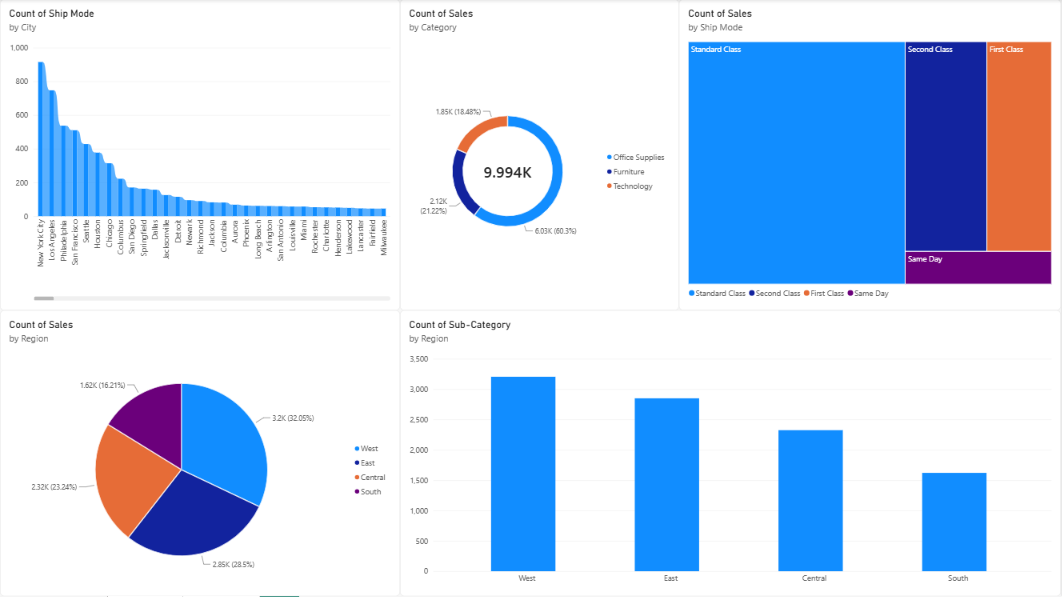

What the dashboard file says about the page in this screenshot:
{"tool":"powerbi","page":{"name":"Page 1","canvas":[1920,1080],"ordinal":0},"visuals":[{"type":"pieChart","fields":{"Category":["Bars- Segment_Full Data_data.Region"],"Y":["CountNonNull(Bars- Segment_Full Data_data.Sales)"]},"box":[0,562.8,723.9,517.6],"z":0},{"type":"lineClusteredColumnComboChart","fields":{"Y":["CountNonNull(Bars- Segment_Full Data_data.Sub-Category)"],"Category":["Bars- Segment_Full Data_data.Region"]},"box":[723.9,562.8,1196.2,517.6],"z":1000},{"type":"treemap","fields":{"Group":["Bars- Segment_Full Data_data.Ship Mode"],"Values":["CountNonNull(Bars- Segment_Full Data_data.Sales)"]},"box":[1228.8,0,691.3,562.8],"z":2000},{"type":"donutChart","fields":{"Category":["Bars- Segment_Full Data_data.Category"],"Y":["CountNonNull(Bars- Segment_Full Data_data.Sales)"]},"box":[723.9,0,504.9,562.8],"z":3000},{"type":"textbox","box":[100,100,300,300],"z":4000},{"type":"ribbonChart","fields":{"Category":["Bars- Segment_Full Data_data.City"],"Y":["CountNonNull(Bars- Segment_Full Data_data.Ship Mode)"]},"box":[0,0,723.9,562.8],"z":4001}]}

Visuals, with their boxes in screenshot pixels (x1, y1, x2, y2), scaled from the page's 1920x1080 canvas onto the 1062x597 screenshot:
pieChart - Bars- Segment_Full Data_data.Region x CountNonNull(Bars- Segment_Full Data_data.Sales): (0, 311, 400, 596)
lineClusteredColumnComboChart - CountNonNull(Bars- Segment_Full Data_data.Sub-Category) x Bars- Segment_Full Data_data.Region: (400, 311, 1061, 596)
treemap - Bars- Segment_Full Data_data.Ship Mode x CountNonNull(Bars- Segment_Full Data_data.Sales): (680, 0, 1061, 311)
donutChart - Bars- Segment_Full Data_data.Category x CountNonNull(Bars- Segment_Full Data_data.Sales): (400, 0, 680, 311)
textbox: (55, 55, 221, 221)
ribbonChart - Bars- Segment_Full Data_data.City x CountNonNull(Bars- Segment_Full Data_data.Ship Mode): (0, 0, 400, 311)
